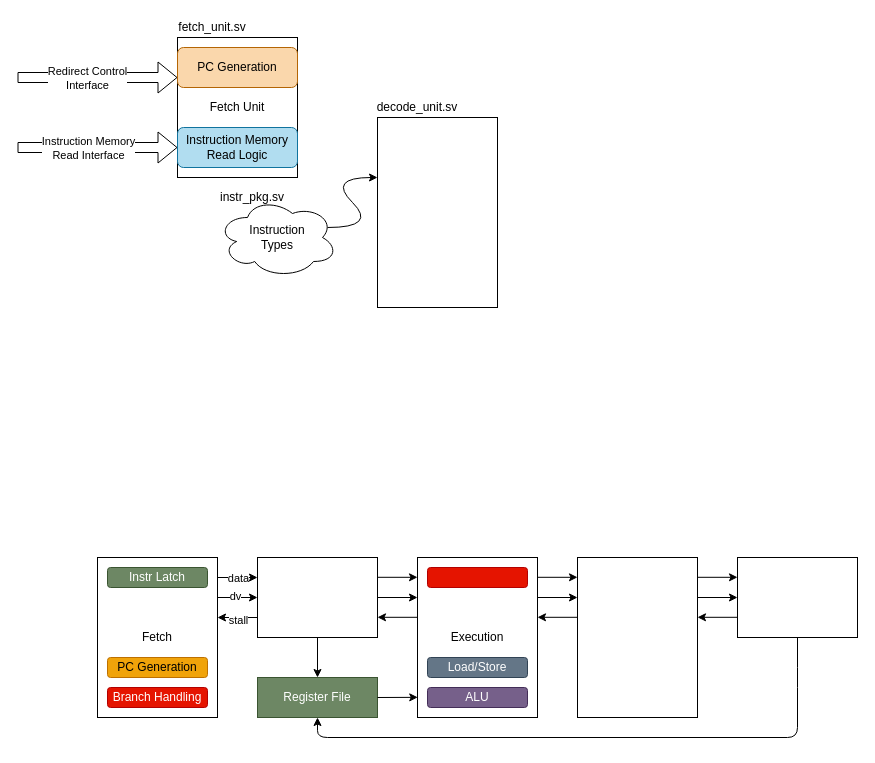
Some shapes in this 875 by 763 pixel diagram are drawn without their labels. Each missing label, with the centre of its shape:
Branch: pixel 477 577
Decode: pixel 317 597
Decode Unit: pixel 437 212
Memory Access: pixel 637 637
Writeback: pixel 797 597
